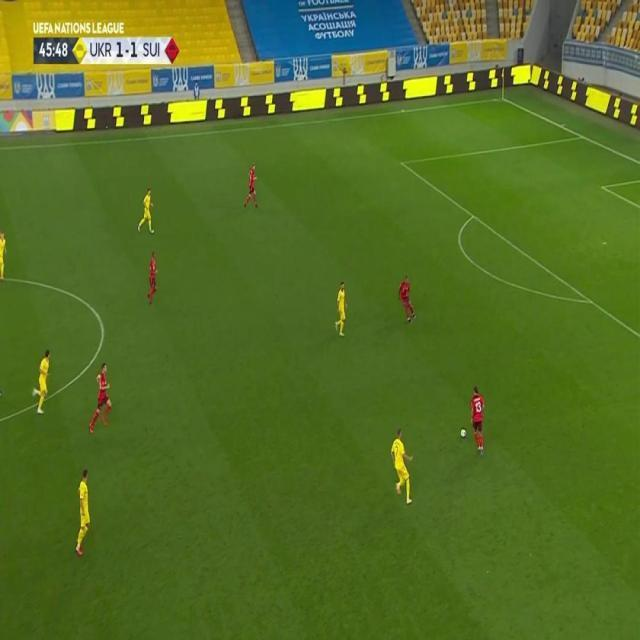ball: (459, 427, 467, 440)
player: (389, 426, 415, 504), (89, 361, 114, 434), (74, 468, 93, 557), (33, 350, 53, 414), (468, 383, 485, 456), (396, 273, 416, 324), (136, 188, 156, 234), (243, 161, 261, 211), (334, 279, 349, 338), (145, 251, 160, 306), (0, 229, 8, 280)
